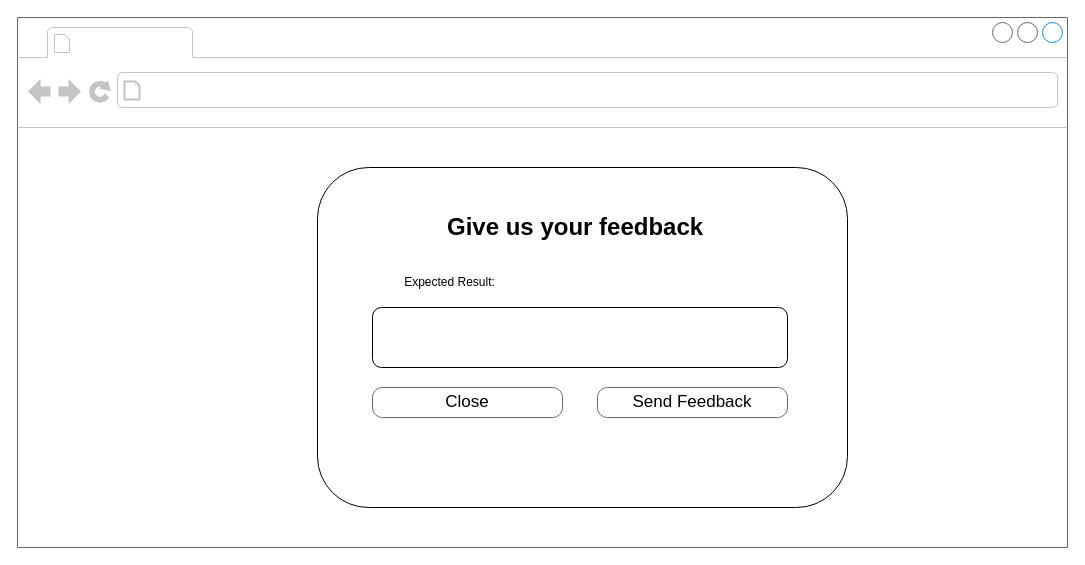
The diagram is 1085 pixels wide and 565 high, and some of its shapes have lost their labels. Each missing label, with the box of its shape:
https://www.default.com: (146, 76, 398, 104)
Page 1: (76, 28, 188, 56)
